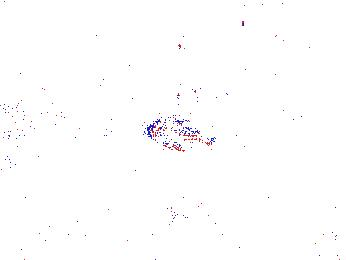X-ray fish: (147, 116, 209, 147)
red belly glassfish: (269, 29, 309, 53)
